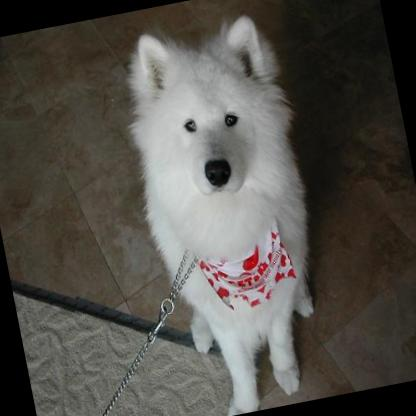Samoyed: (108, 7, 342, 416)
